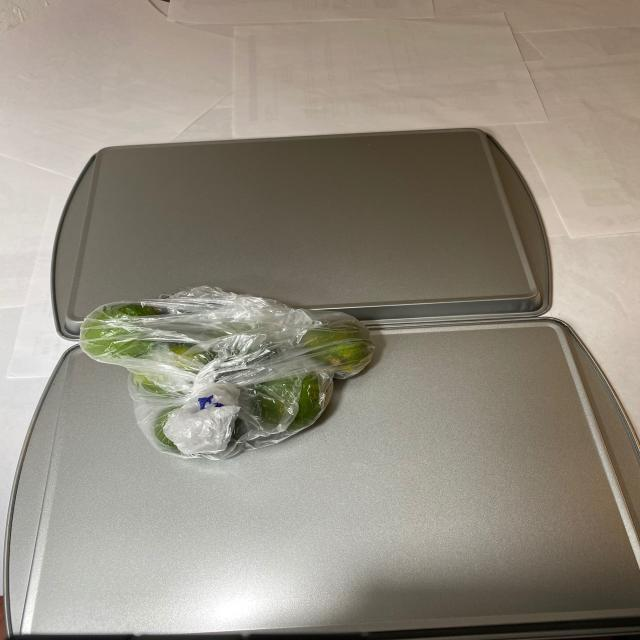lemon: (84, 305, 376, 456)
